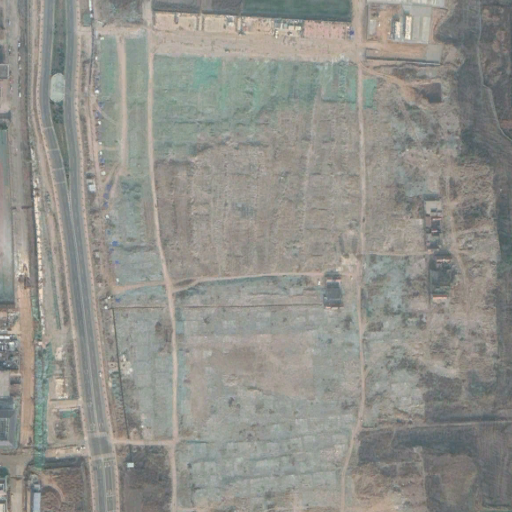cw: (93, 35, 485, 512)
